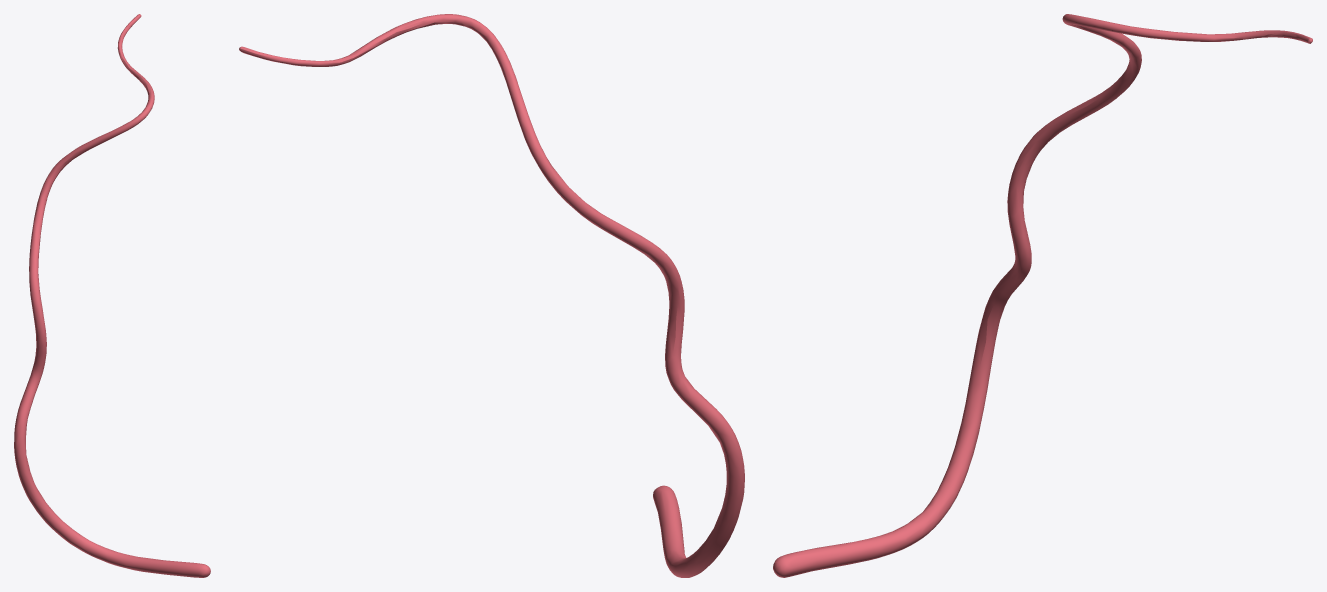
Rendered from fma77439_fj5037.glb.
3 renders of one model, left to right at view 1: azimuth 30°, elevation 25°; view 2: azimuth 150°, elevation 25°; view 3: azimuth 270°, elevation 25°, orthographic. The views are drawn at different scales.
Visible parts, largest first — view 1: FMA77439_FJ5037; view 2: FMA77439_FJ5037; view 3: FMA77439_FJ5037.
Boxes of the visible parts, x1=… form: FMA77439_FJ5037: x1=14, y1=14, x2=210, y2=577; FMA77439_FJ5037: x1=239, y1=14, x2=744, y2=577; FMA77439_FJ5037: x1=773, y1=14, x2=1312, y2=577.
Bounding box in the file's own units: 0.031 × 0.0528 × 0.0411.
